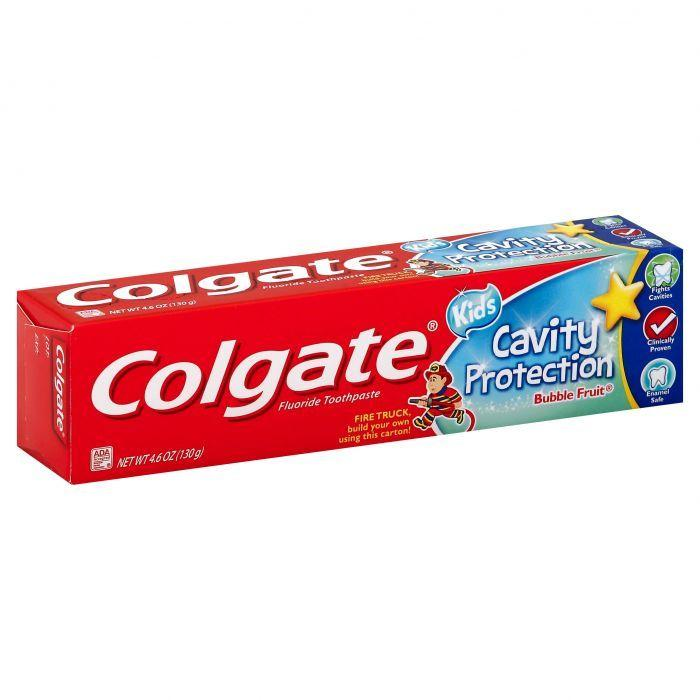toothpaste: (10, 223, 689, 488)
